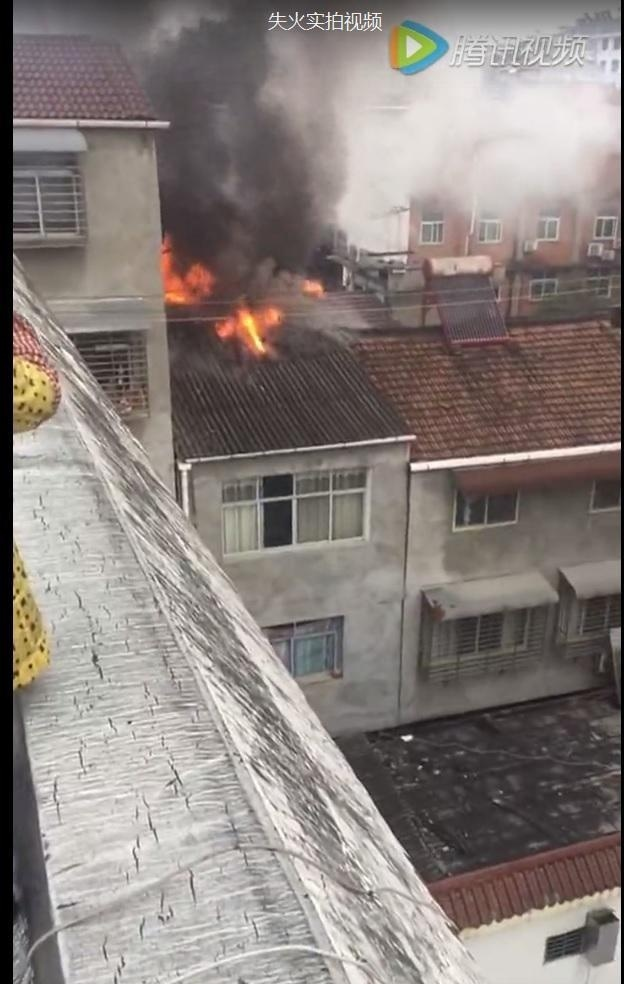fire: (159, 240, 208, 302), (220, 303, 275, 352)
